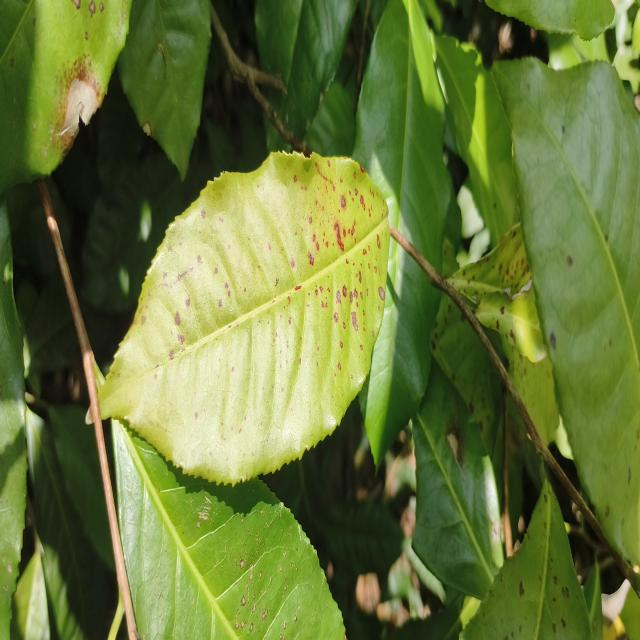Leaf: (100, 153, 389, 484), (493, 58, 640, 564), (112, 421, 344, 640), (352, 0, 455, 269), (0, 0, 131, 192), (412, 364, 503, 599), (26, 408, 118, 640), (460, 481, 592, 640), (82, 153, 211, 311), (435, 36, 519, 243), (363, 238, 440, 462), (118, 0, 211, 180), (255, 0, 356, 138), (0, 198, 27, 640), (49, 405, 114, 569), (317, 502, 402, 574), (475, 289, 547, 362)
